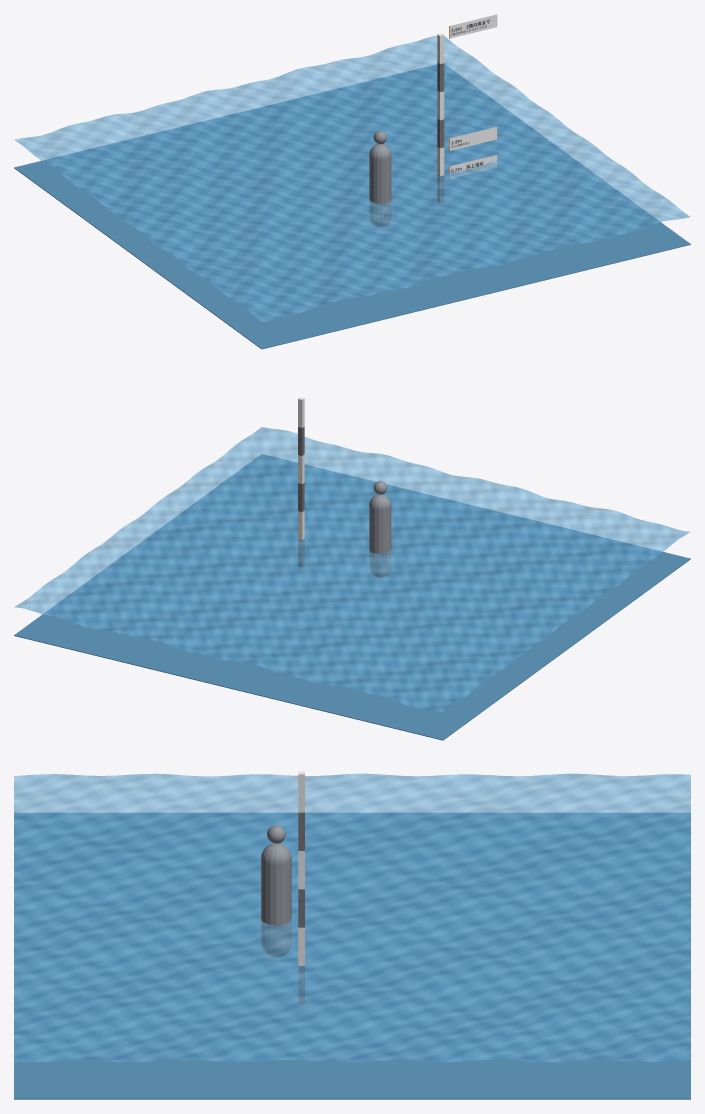
Rendered from flood_050.glb.
3 views of the same model, one above another, from view 1: azimuth 30°, elevation 25°; view 2: azimuth 150°, elevation 25°; view 3: azimuth 270°, elevation 25° (orthographic). The views are drawn at different scales.
Visible parts, largest first — view 1: geometry_0, geometry_1, geometry_14, geometry_12, geometry_10, geometry_8; view 2: geometry_0, geometry_1, geometry_14; view 3: geometry_0, geometry_1, geometry_14.
Part boxes in pixels (left/top/right/bottom): geometry_0: left=14, top=35, right=689, bottom=321; geometry_1: left=14, top=64, right=690, bottom=349; geometry_14: left=369, top=144, right=391, bottom=227; geometry_12: left=449, top=14, right=497, bottom=38; geometry_10: left=449, top=127, right=497, bottom=150; geometry_8: left=449, top=155, right=497, bottom=178; geometry_0: left=14, top=427, right=689, bottom=711; geometry_1: left=14, top=454, right=690, bottom=740; geometry_14: left=369, top=494, right=391, bottom=577; geometry_0: left=14, top=773, right=690, bottom=1062; geometry_1: left=14, top=813, right=690, bottom=1099; geometry_14: left=261, top=843, right=291, bottom=957.
Size of the model in its own units: 8 by 3.12 by 8.
Materials: 8 (4 with a texture image).
